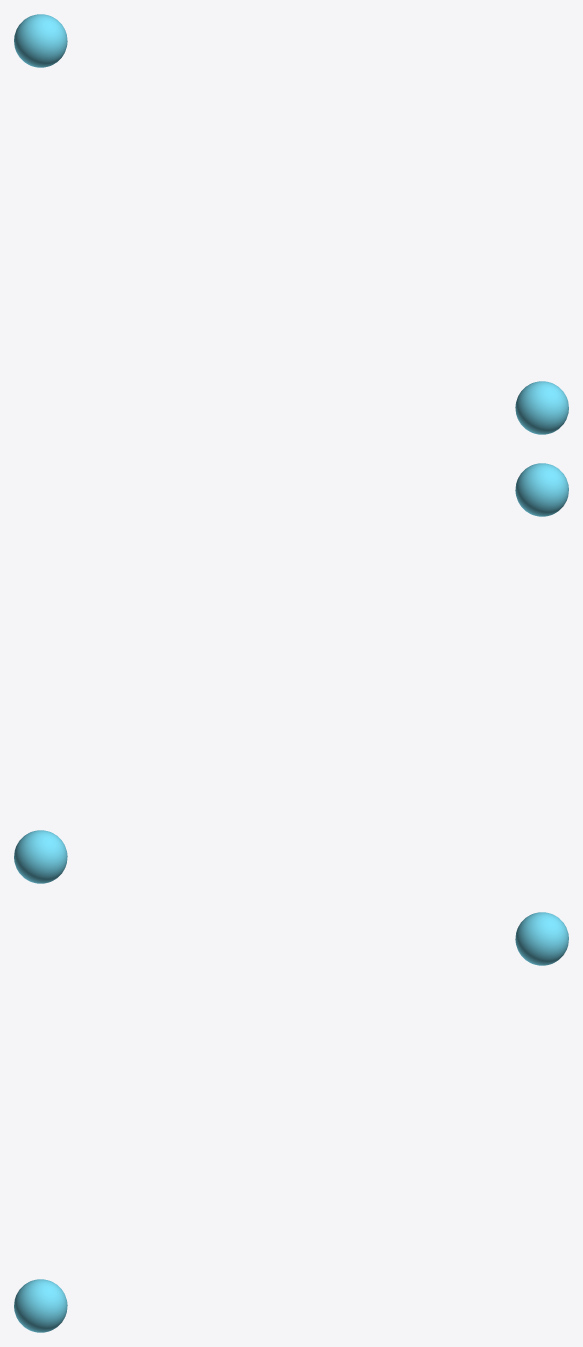
3 renders of one model, top to bottom at view 1: azimuth 30°, elevation 25°; view 2: azimuth 150°, elevation 25°; view 3: azimuth 330°, elevation 25°, orthographic.
Parts seen in each view (by area): view 1: Sphere049; view 2: Sphere049; view 3: Sphere049.
Part boxes in pixels (x1,y1,x2,y2): Sphere049: [14, 14, 568, 434]; Sphere049: [14, 463, 568, 883]; Sphere049: [14, 912, 568, 1332].
Size of the model in its own units: 8.22 by 8.22 by 162.
